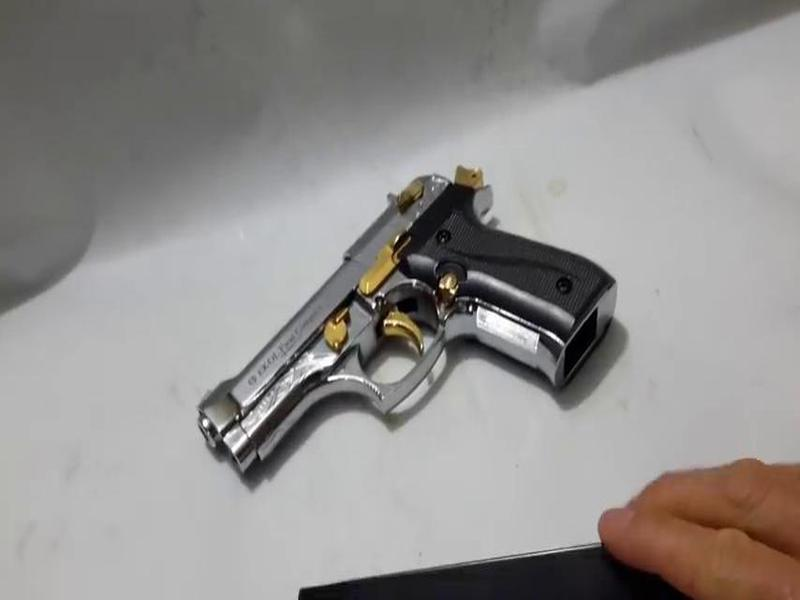Pistola: (199, 169, 614, 479)
